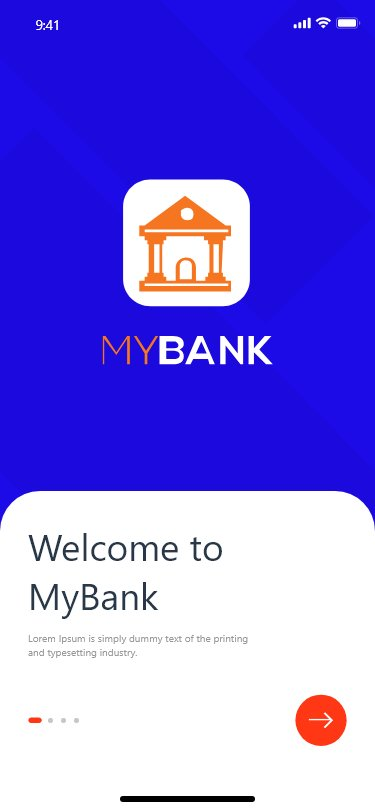Icon: (295, 694, 347, 747)
Image: (123, 179, 251, 307), (102, 336, 274, 365)
PageIndicator: (28, 716, 81, 724)
Text: (29, 532, 223, 620), (29, 634, 249, 659)
UpperTaskBar: (35, 16, 362, 32)
